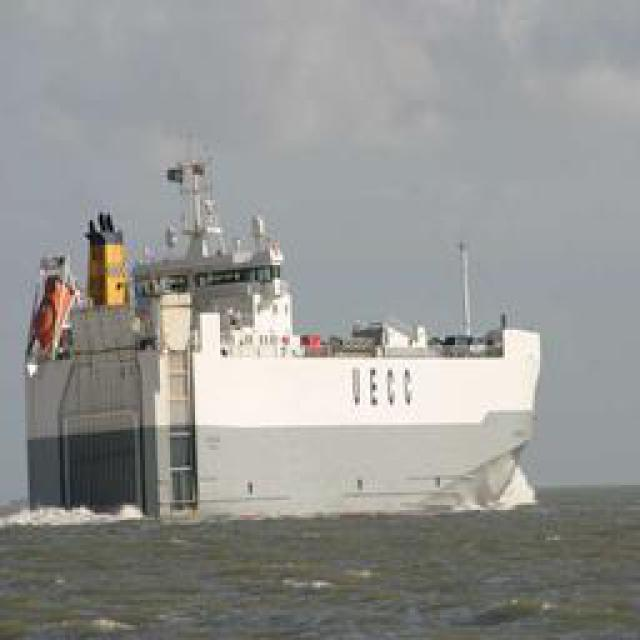Ship: (18, 142, 537, 524)
